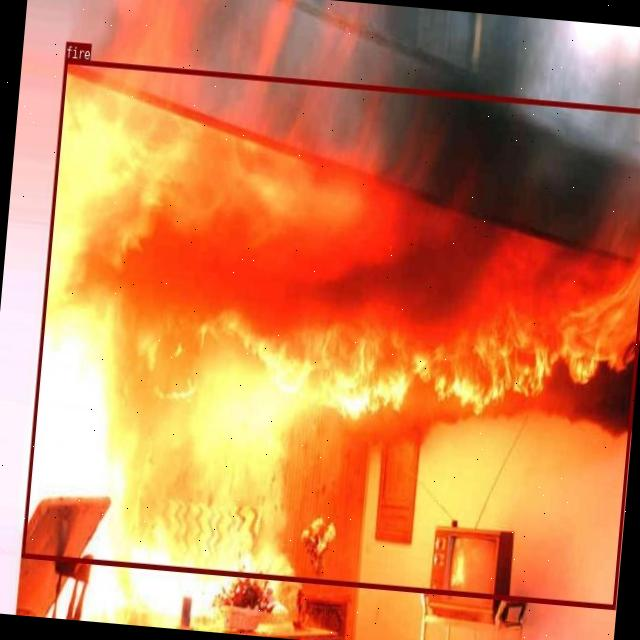fire: (20, 57, 640, 607)
